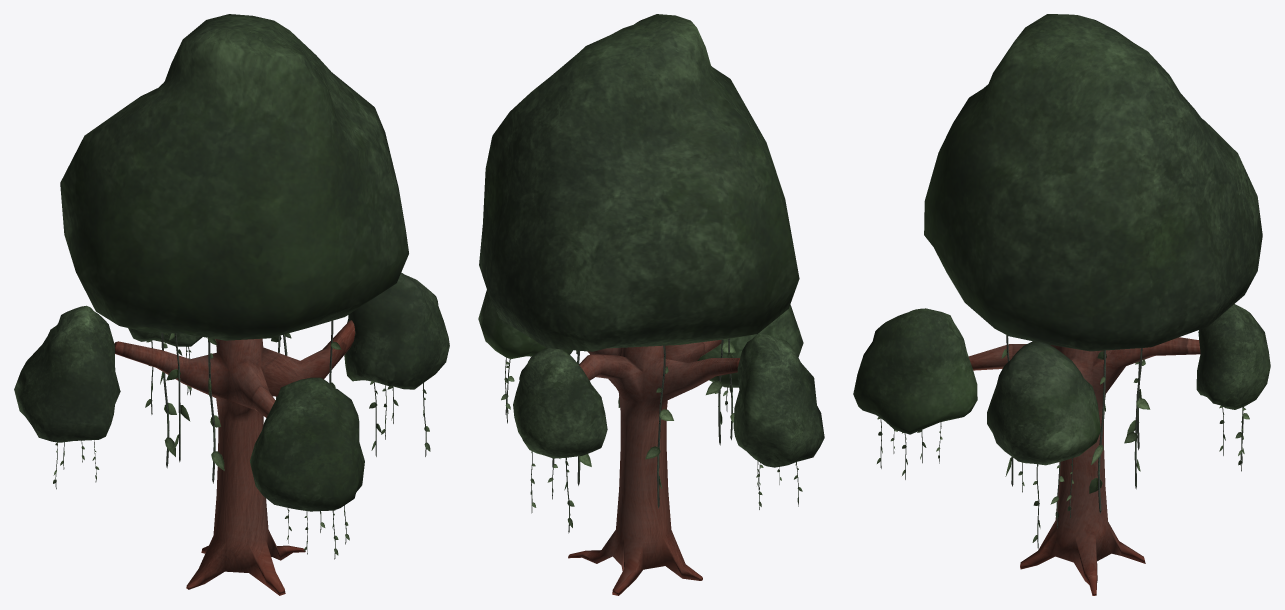
Rendered from riverTree_01_mesh (1).fbx.
The picture shows the model from 3 angles, left to right: view 1: azimuth 30°, elevation 25°; view 2: azimuth 150°, elevation 25°; view 3: azimuth 270°, elevation 25°; orthographic projection. The views are drawn at different scales.
Visible parts, largest first — view 1: riverTree_01_mesh; view 2: riverTree_01_mesh; view 3: riverTree_01_mesh.
Boxes of the visible parts, x1,y1,x2,y2 form: riverTree_01_mesh: [14, 14, 449, 595]; riverTree_01_mesh: [478, 14, 824, 595]; riverTree_01_mesh: [853, 14, 1270, 595].
Size of the model in its own units: 488 by 689 by 484.
1 material, 1 textured.
